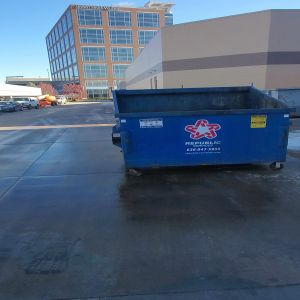Dumpster: (113, 85, 296, 175)
